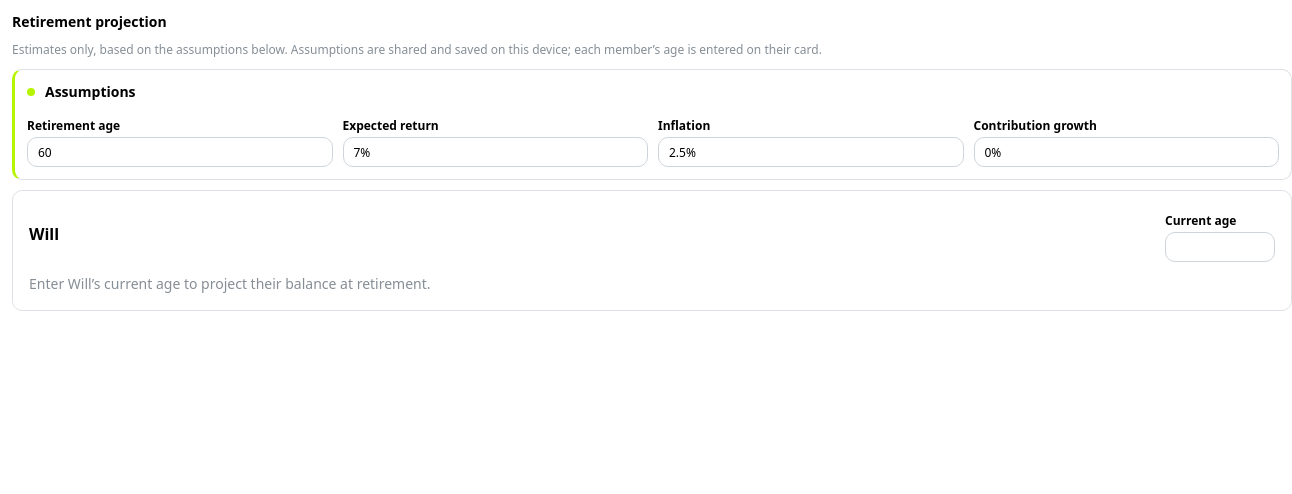
Test: RetirementProjection › shows both real and nominal projected balances
Type "59" into the field named "will current age" at (1220, 247), box left=1165, top=232, right=1275, bottom=262
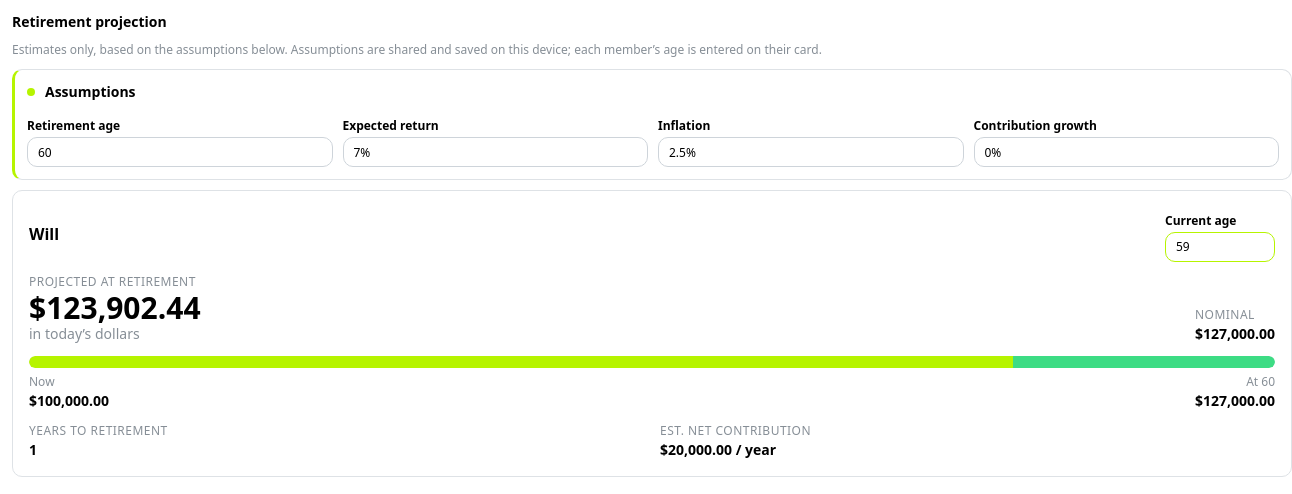
Result: the text "$127,000.00" below "Nominal" is shown at left=1195, top=324, right=1275, bottom=344
Result: the text "in today’s dollars" is shown at left=29, top=324, right=140, bottom=343
